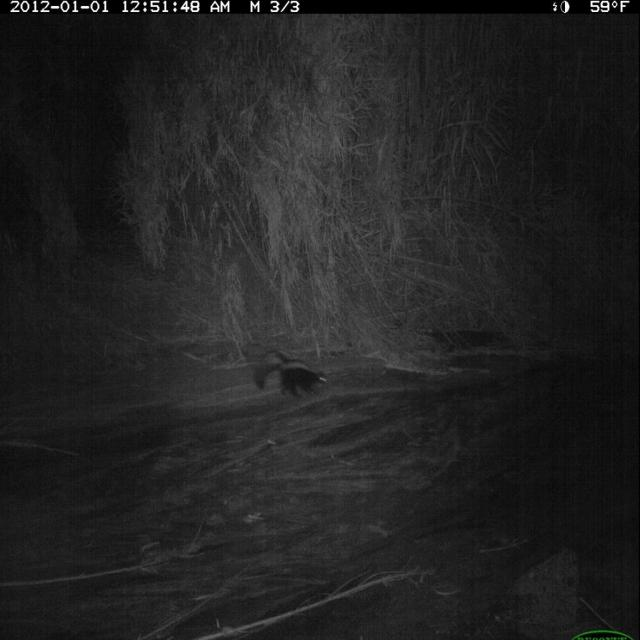skunk: (251, 346, 330, 404)
